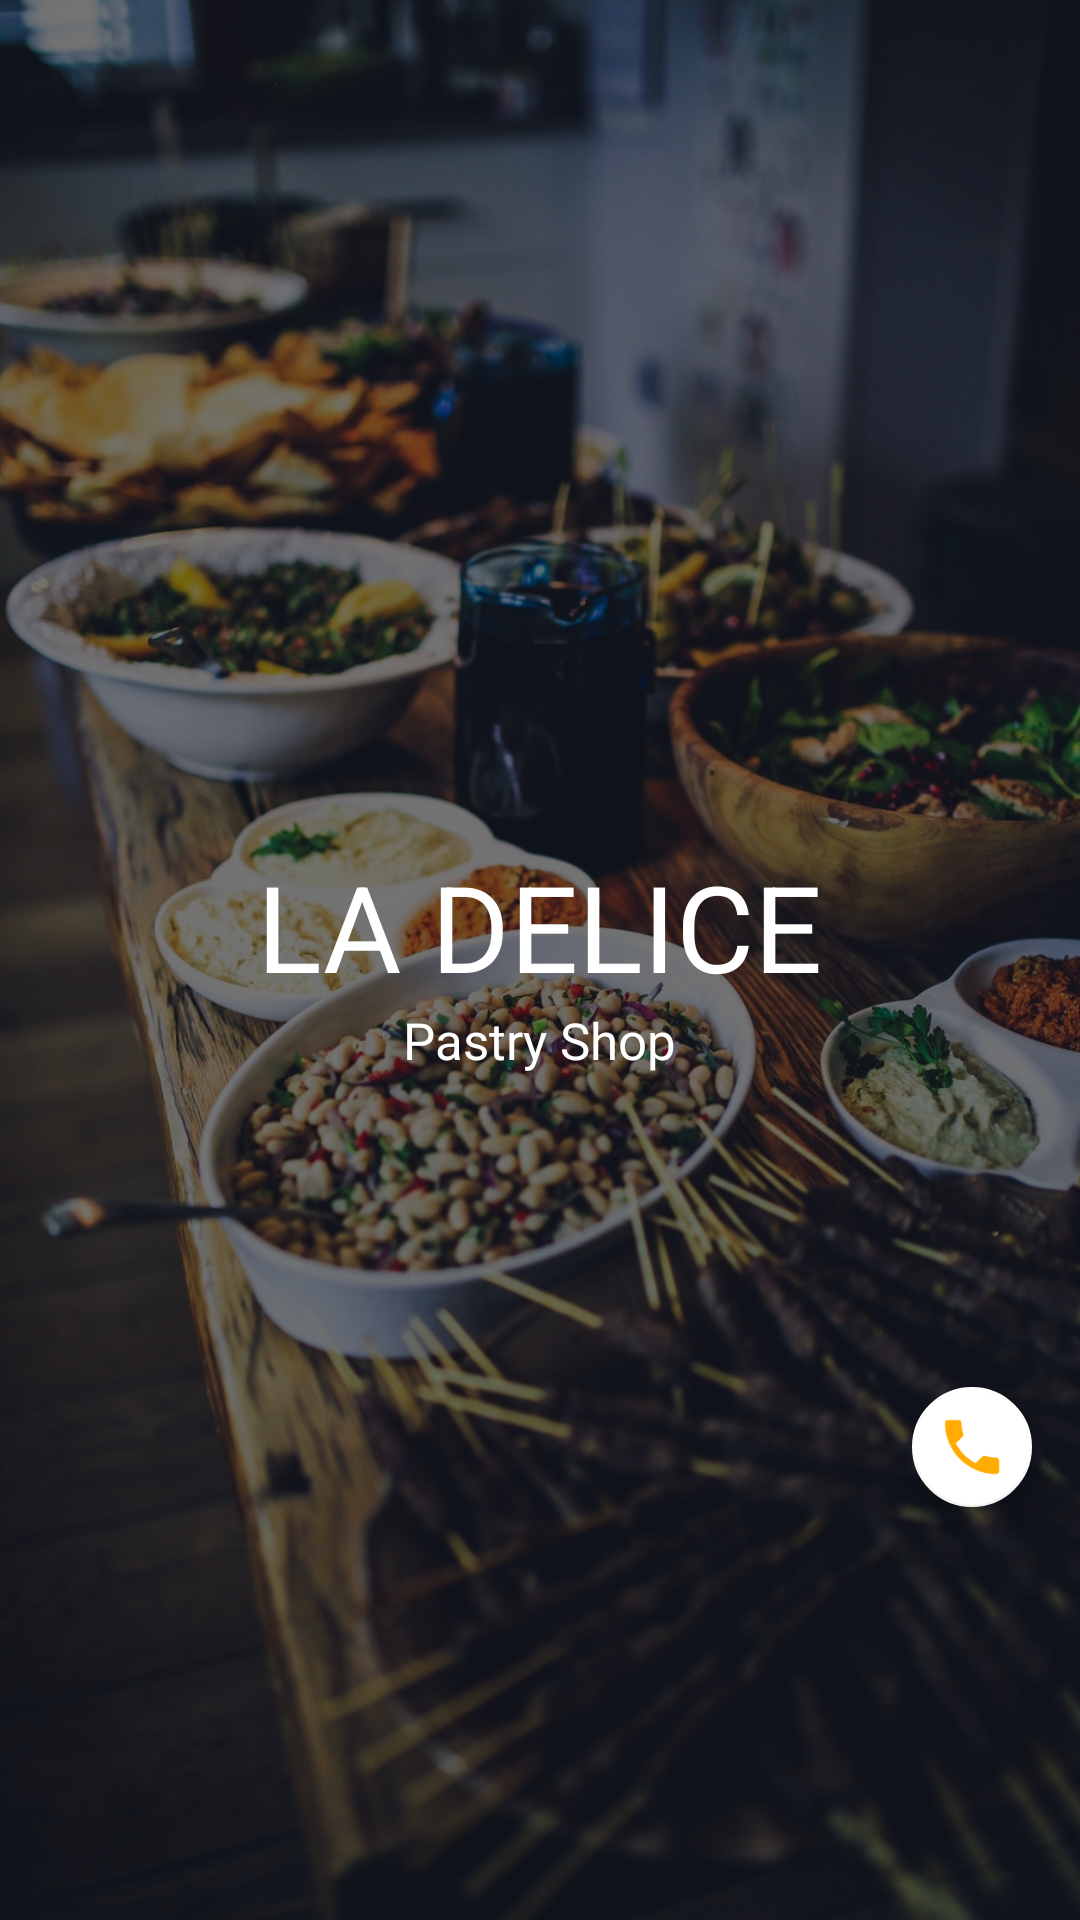

Named icons in this screenshot (1080w x 1920h) and their centers, (x=x, y=y):
call: (x=972, y=1447)
